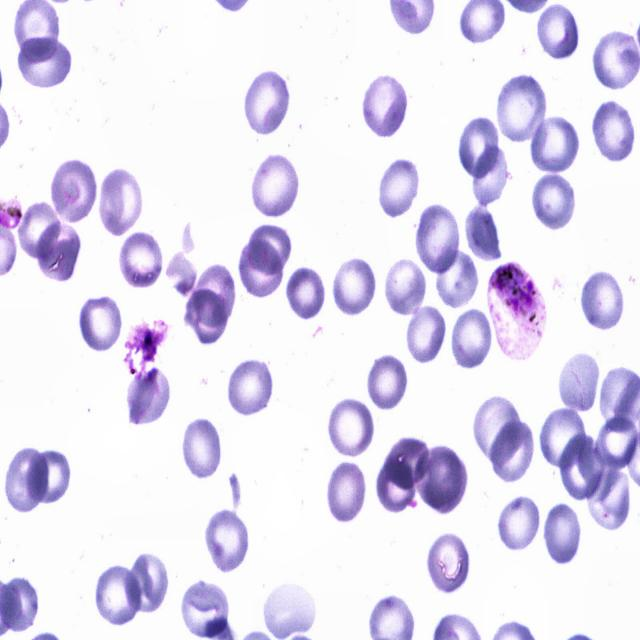red blood cell: (249, 150, 302, 220), (415, 446, 467, 516), (496, 73, 548, 142), (176, 576, 234, 637), (472, 399, 524, 466), (243, 67, 290, 138), (326, 394, 376, 459), (362, 72, 409, 139), (16, 36, 74, 90), (415, 204, 459, 275), (99, 167, 144, 236), (94, 566, 144, 628), (532, 112, 581, 175), (264, 580, 316, 639), (50, 159, 97, 224), (426, 530, 471, 597), (4, 446, 48, 514), (559, 434, 603, 501), (490, 418, 534, 485), (125, 550, 170, 615), (540, 407, 586, 470), (192, 266, 238, 329), (205, 510, 252, 571), (580, 269, 626, 331), (590, 100, 638, 159), (226, 356, 274, 415), (594, 30, 640, 91), (78, 294, 124, 355), (587, 466, 630, 531), (18, 199, 62, 262), (332, 256, 378, 316), (126, 366, 172, 426), (36, 221, 81, 282), (383, 256, 427, 318), (377, 157, 421, 219), (239, 238, 283, 299), (594, 414, 640, 472), (326, 459, 367, 524), (459, 115, 500, 180), (245, 223, 294, 277), (451, 309, 494, 370), (496, 496, 542, 552), (558, 352, 600, 413), (404, 305, 446, 366), (544, 502, 584, 566), (184, 289, 228, 347), (436, 250, 478, 310), (120, 232, 164, 289), (26, 449, 73, 502), (182, 419, 224, 478), (366, 354, 409, 411), (384, 437, 430, 490), (536, 5, 578, 63), (532, 174, 576, 229), (285, 266, 328, 320), (464, 205, 503, 263), (376, 457, 416, 513), (473, 145, 508, 206)
schizont: (487, 260, 548, 363)
